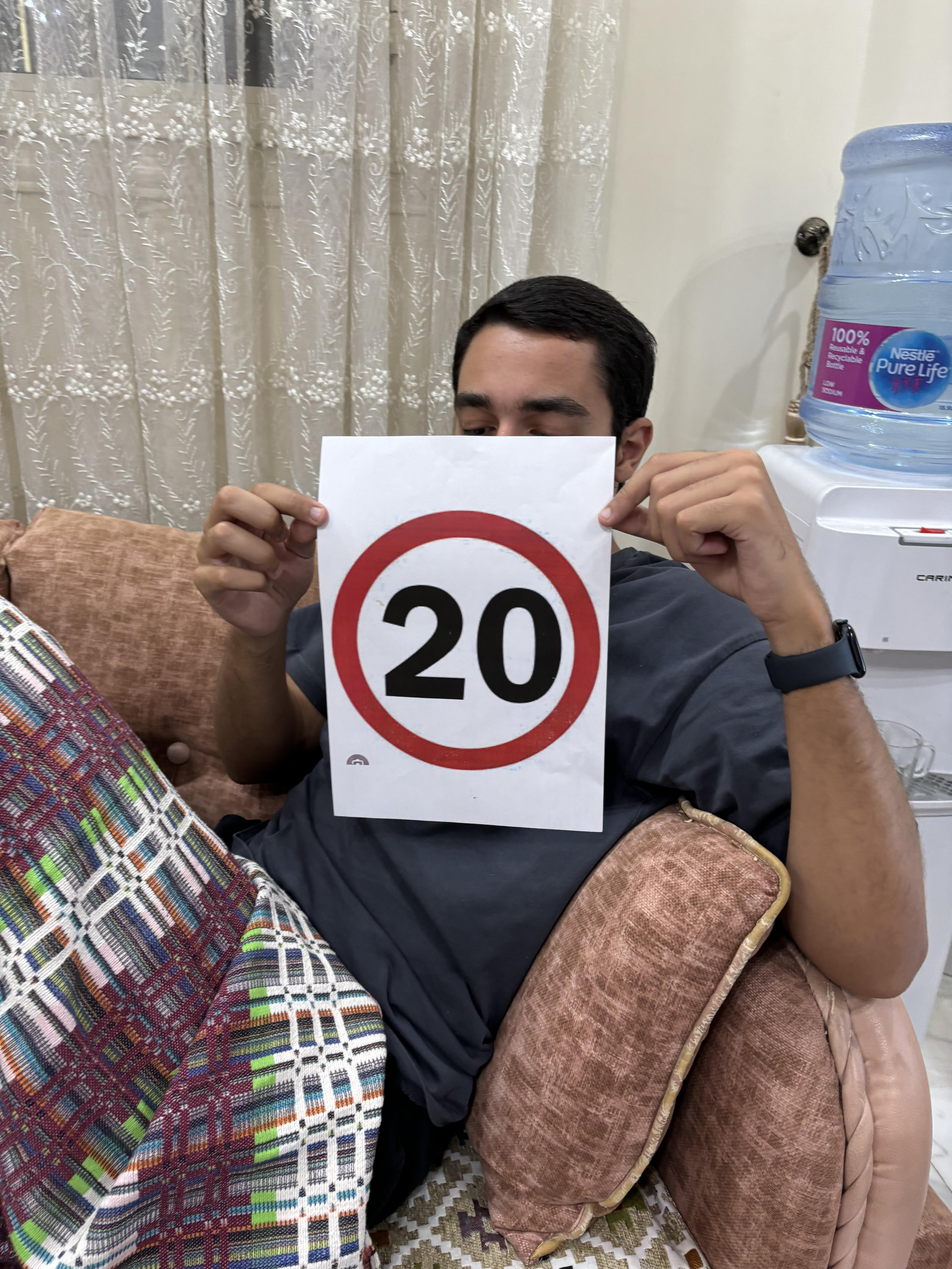20-Speed: (332, 505, 600, 765)
